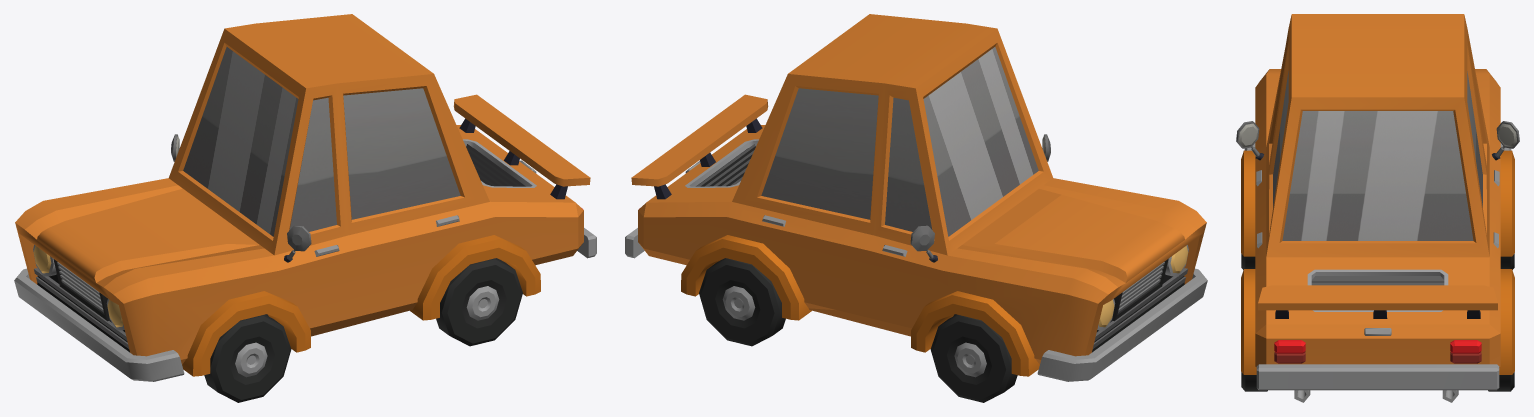
Rendered from Car_6_F.gltf.
3 renders of one model, left to right at view 1: azimuth 30°, elevation 25°; view 2: azimuth 150°, elevation 25°; view 3: azimuth 270°, elevation 25°, orthographic. The views are drawn at different scales.
Parts seen in each view (by area): view 1: Car_6_F, RL, FL; view 2: Car_6_F, RR, FR; view 3: Car_6_F, RL, RR.
Part boxes in pixels (box(x1,y1,x2,y2)): Car_6_F: box(14, 14, 596, 381); RL: box(436, 258, 522, 346); FL: box(204, 314, 291, 402); Car_6_F: box(625, 14, 1207, 381); RR: box(699, 258, 785, 346); FR: box(930, 314, 1017, 402); Car_6_F: box(1236, 14, 1519, 402); RL: box(1241, 372, 1267, 391); RR: box(1488, 372, 1514, 391).
Bounding box in the file's own units: 3.1 × 1.72 × 1.51.
Materials: 4 (4 with a texture image).
